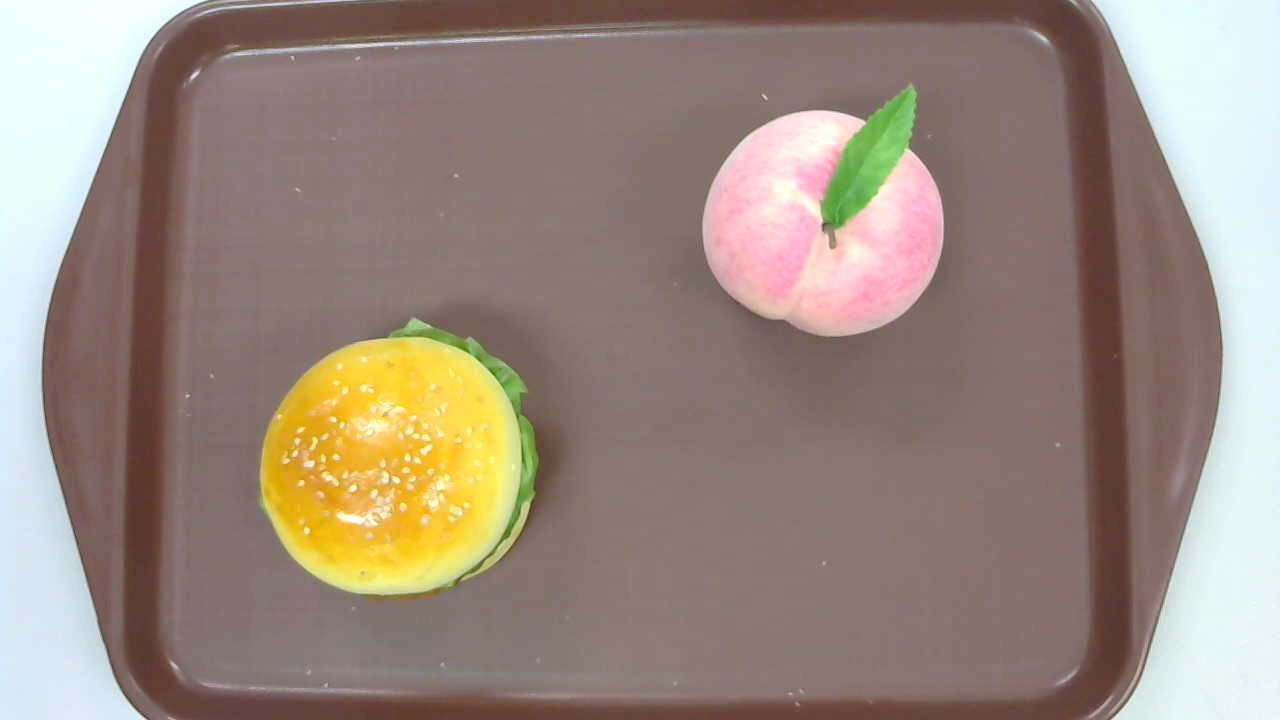hamburger: (260, 315, 540, 602)
peach: (701, 82, 944, 336)
